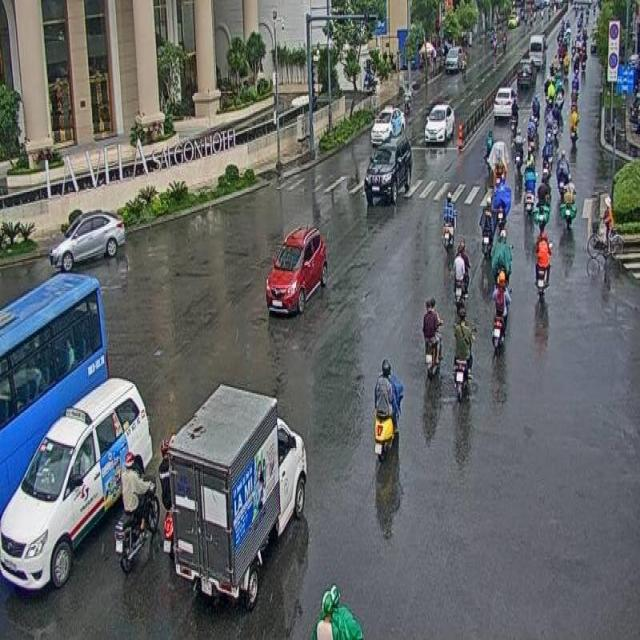bicycle: (585, 193, 622, 260)
car: (0, 376, 150, 599), (264, 225, 327, 311), (50, 207, 124, 273), (363, 134, 412, 203)
motorcycle: (115, 449, 158, 570), (373, 355, 404, 460), (451, 305, 475, 401), (489, 268, 511, 357), (422, 294, 443, 384), (451, 241, 469, 308), (534, 230, 550, 300), (478, 195, 495, 258), (442, 189, 456, 250)
truck: (158, 386, 306, 612)
